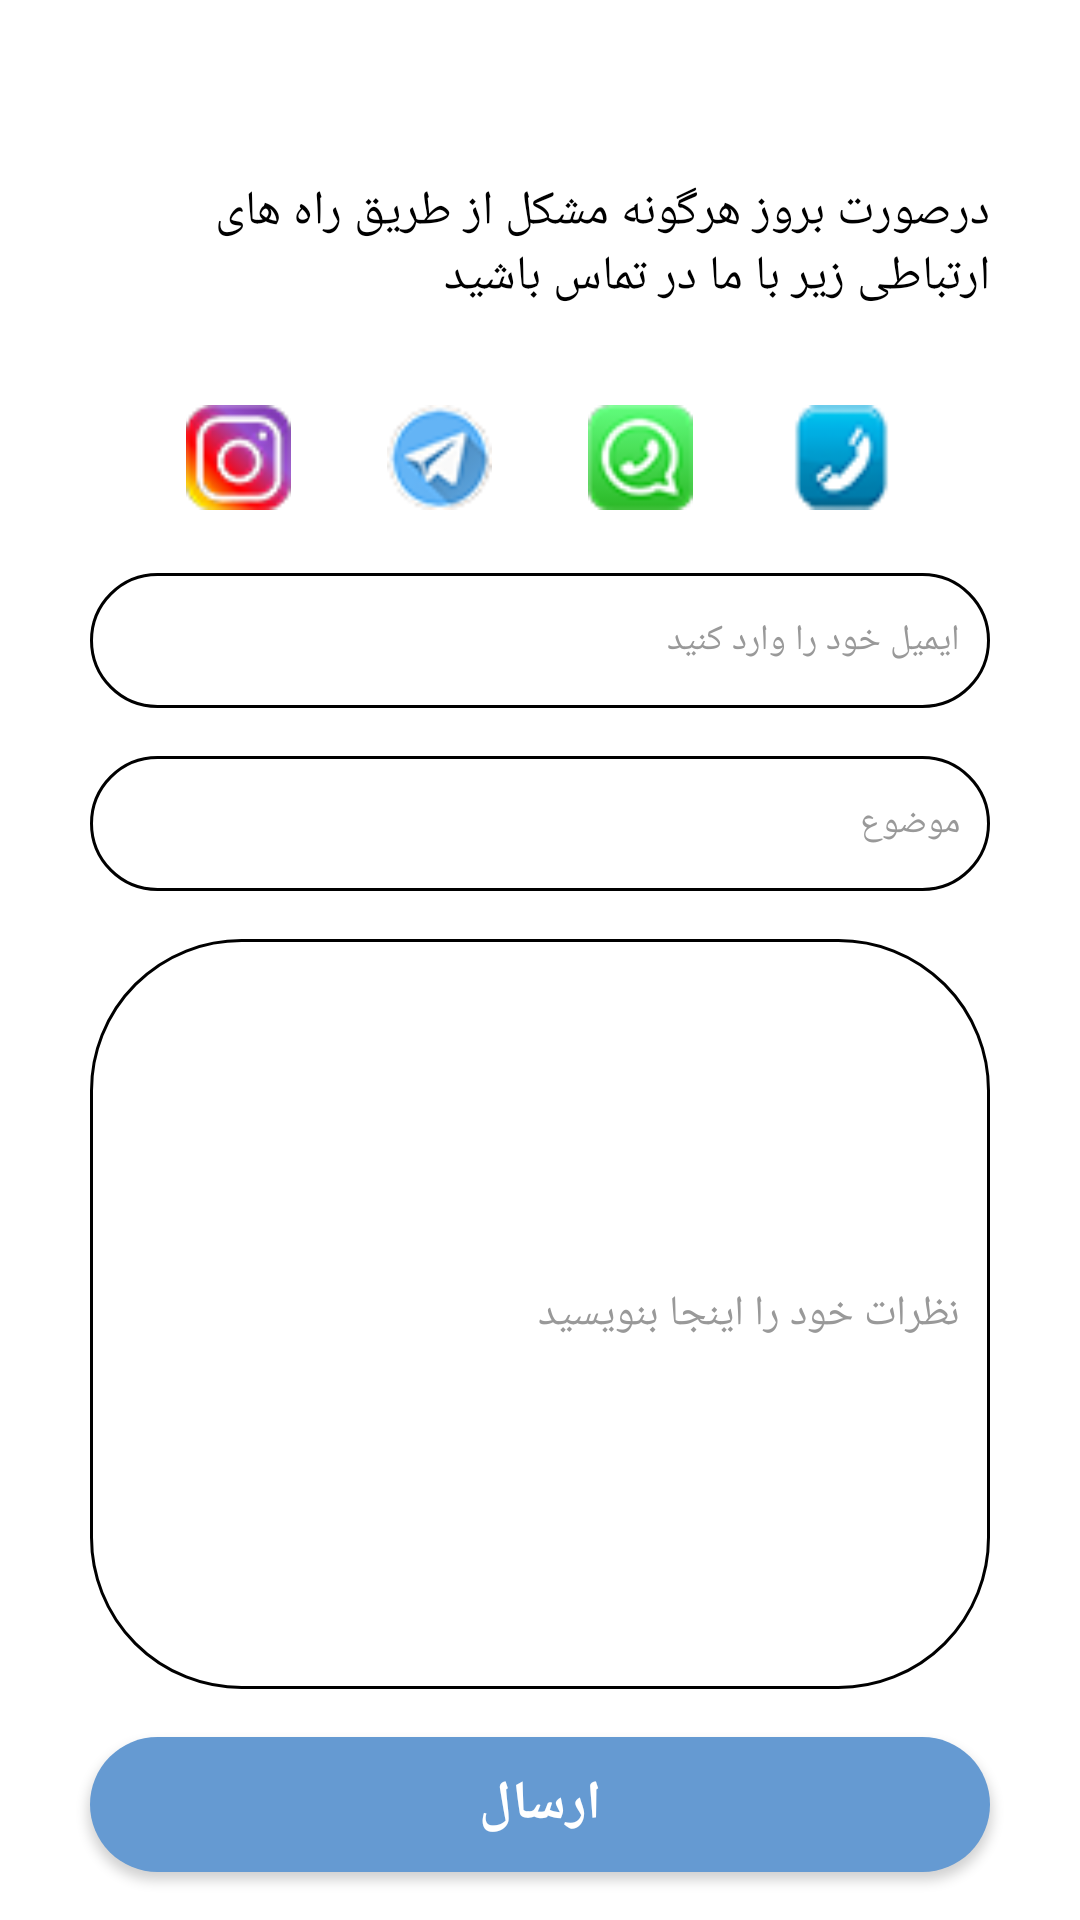

Icons on this 1080px x 1920px Android screen, each with its box as (x1, y1, x2, y2):
telephone: (795, 405, 888, 510)
